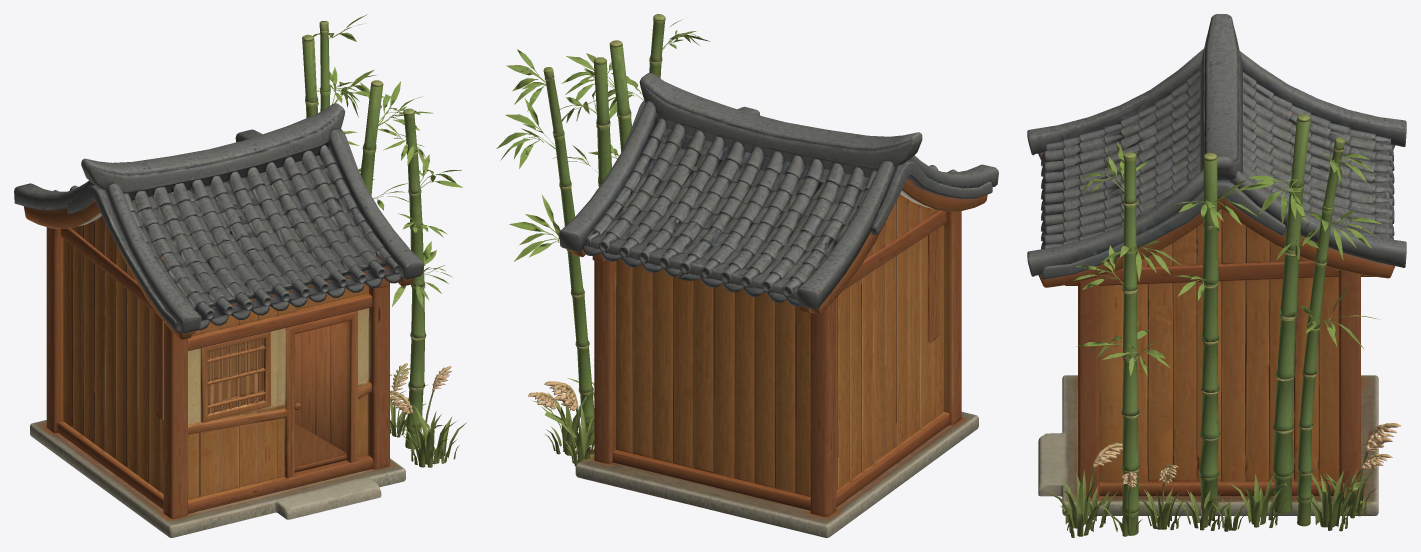
Rendered from station_3.glb.
The picture shows the model from 3 angles, left to right: view 1: azimuth 30°, elevation 25°; view 2: azimuth 150°, elevation 25°; view 3: azimuth 270°, elevation 25°; orthographic projection. The views are drawn at different scales.
Visible parts, largest first — view 1: tripo_node_43f8762a-8739-45e3-bafe-f4b3af26bcc0; view 2: tripo_node_43f8762a-8739-45e3-bafe-f4b3af26bcc0; view 3: tripo_node_43f8762a-8739-45e3-bafe-f4b3af26bcc0.
Part boxes in pixels (x1,y1,x2,y2): tripo_node_43f8762a-8739-45e3-bafe-f4b3af26bcc0: (14,14,466,537); tripo_node_43f8762a-8739-45e3-bafe-f4b3af26bcc0: (496,14,998,537); tripo_node_43f8762a-8739-45e3-bafe-f4b3af26bcc0: (1027,14,1406,537).
Bounding box in the file's own units: 0.9814 × 0.9995 × 0.8472.
1 material, 1 textured.
